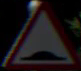Speed Breaker ahead: (11, 11, 65, 63)
